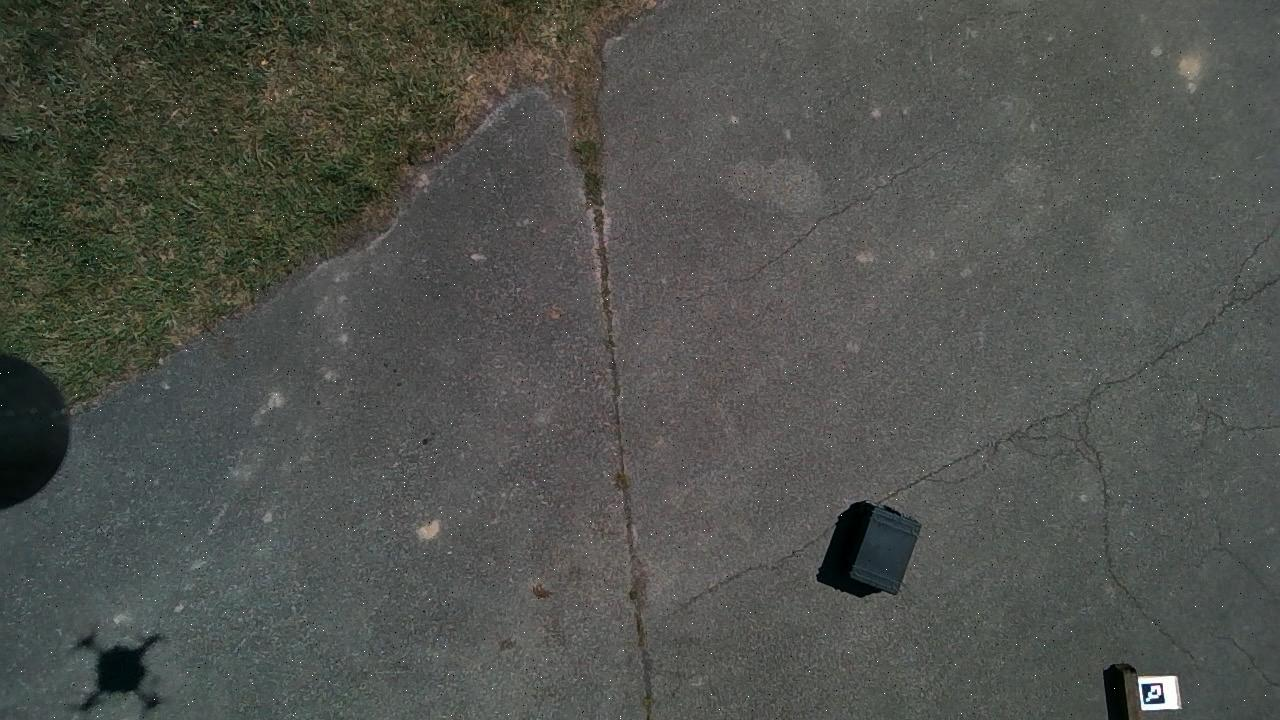rako: (817, 502, 920, 597)
